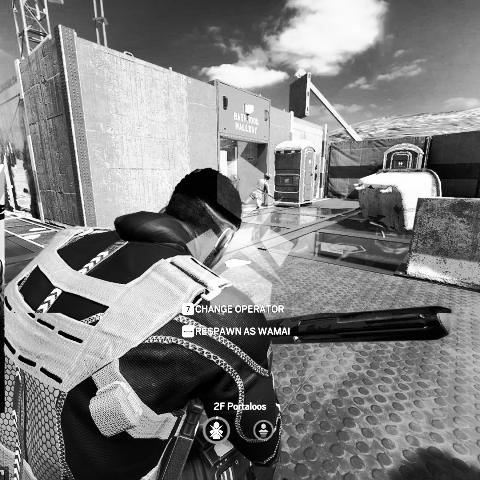Character: (0, 161, 287, 479), (241, 171, 275, 211)
Head: (163, 164, 241, 273), (264, 172, 272, 182)
